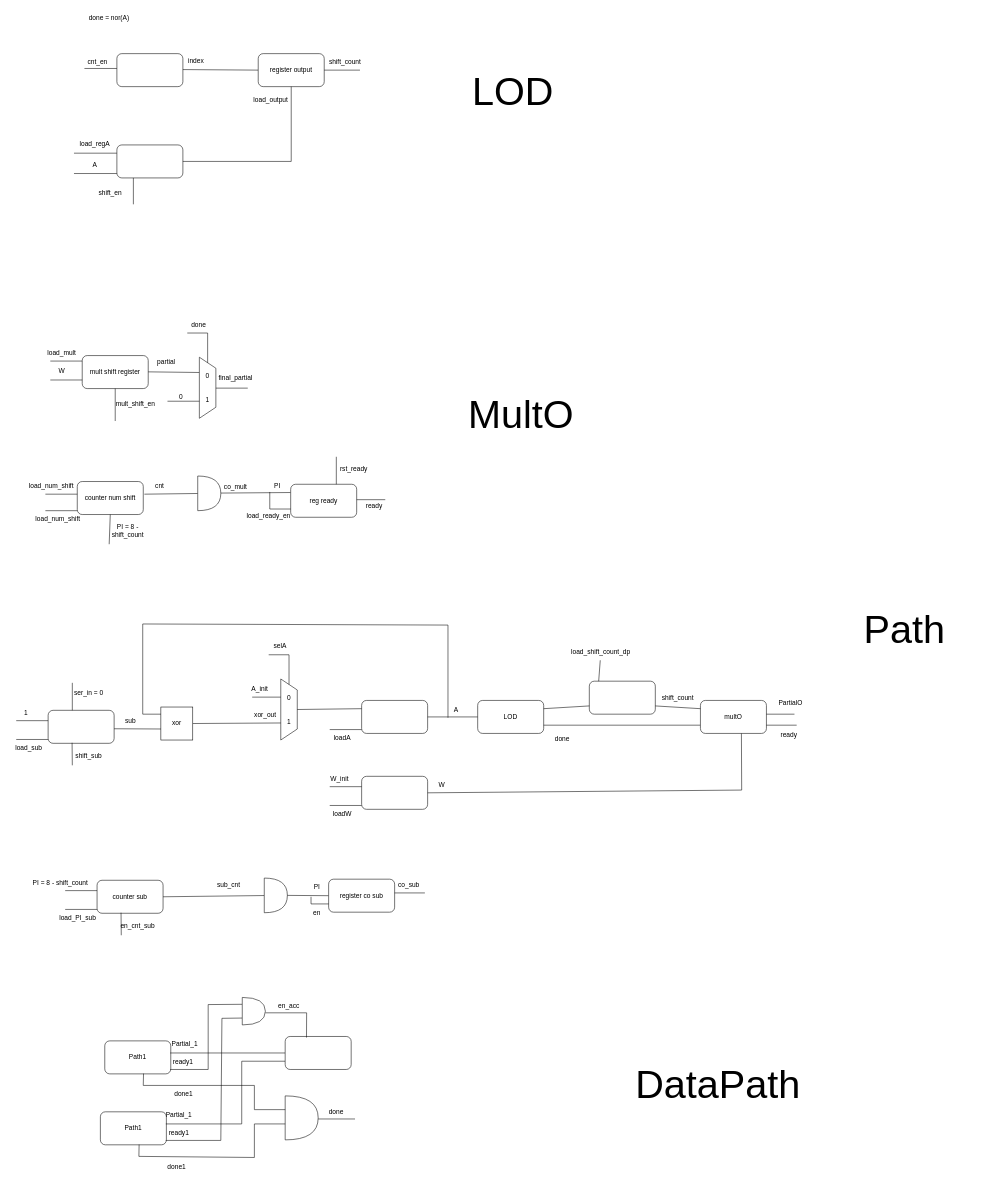
The diagram is 990 pixels wide and 1185 high, and some of its shapes have lost their labels. The centre of each missing label's shape, as x and y in pixels:
Accumulator: [318,1052]
counterLOD: [149,70]
register regA: [394,716]
register regW: [394,792]
register shift count: [622,697]
shift register regA: [149,161]
shift register sub_reg: [81,726]
